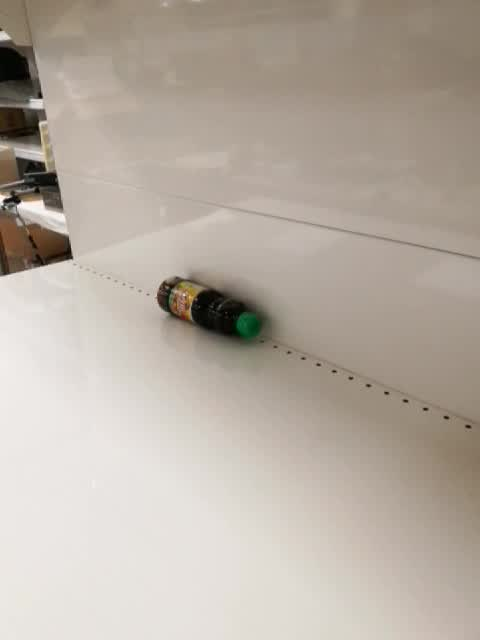cookingoil: (155, 272, 264, 342)
